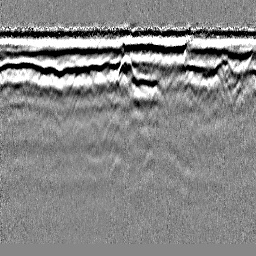cavity: (114, 53, 137, 84)
